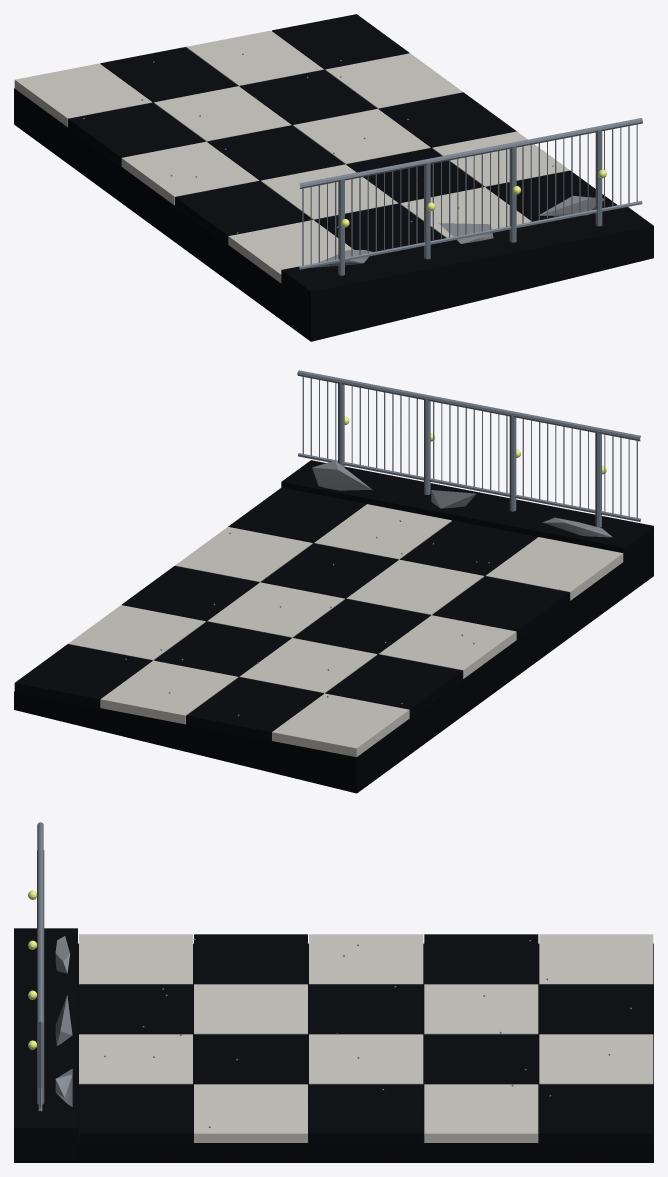
Rendered from v5_ramp.glb.
3 renders of one model, top to bottom at view 1: azimuth 30°, elevation 25°; view 2: azimuth 150°, elevation 25°; view 3: azimuth 270°, elevation 25°, orthographic. The views are drawn at different scales.
Visible parts, largest first — view 1: Pavers_A, Pavers_B, Ramp_Kerb, Guard_Frame, Ramp_Body, Kerb_Boulders; view 2: Pavers_A, Pavers_B, Ramp_Body, Guard_Frame, Ramp_Kerb, Kerb_Boulders; view 3: Pavers_B, Pavers_A, Ramp_Body, Ramp_Kerb, Guard_Frame, Kerb_Boulders.
Boxes of the visible parts, box(x1,y1,x2,y2) form: Pavers_A: box(14, 30, 569, 283); Pavers_B: box(68, 14, 617, 251); Ramp_Kerb: box(281, 207, 653, 341); Guard_Frame: box(299, 118, 642, 275); Ramp_Body: box(14, 88, 281, 319); Kerb_Boulders: box(308, 195, 605, 268); Pavers_A: box(68, 504, 623, 757); Pavers_B: box(14, 487, 569, 740); Ramp_Body: box(14, 561, 624, 793); Guard_Frame: box(297, 370, 641, 527); Ramp_Kerb: box(281, 460, 653, 597); Kerb_Boulders: box(312, 460, 612, 537); Pavers_B: box(79, 934, 653, 1142); Pavers_A: box(79, 934, 653, 1142); Ramp_Body: box(78, 943, 653, 1162); Ramp_Kerb: box(14, 928, 77, 1162); Guard_Frame: box(37, 822, 44, 1111); Kerb_Boulders: box(55, 936, 72, 1106).
Size of what is drawn, in the model's own units: 4 by 1.66 by 6.
Materials: 7 (4 with a texture image).
